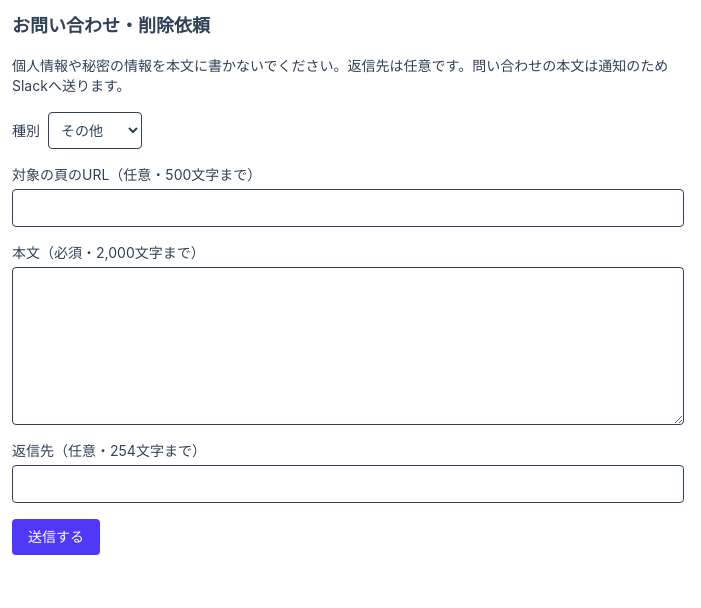
accepts a removal request during maintenance with optional reply address
The image size is (701, 608).
Select "削除依頼" in the dropdown: (95, 130) [48,112,142,149]
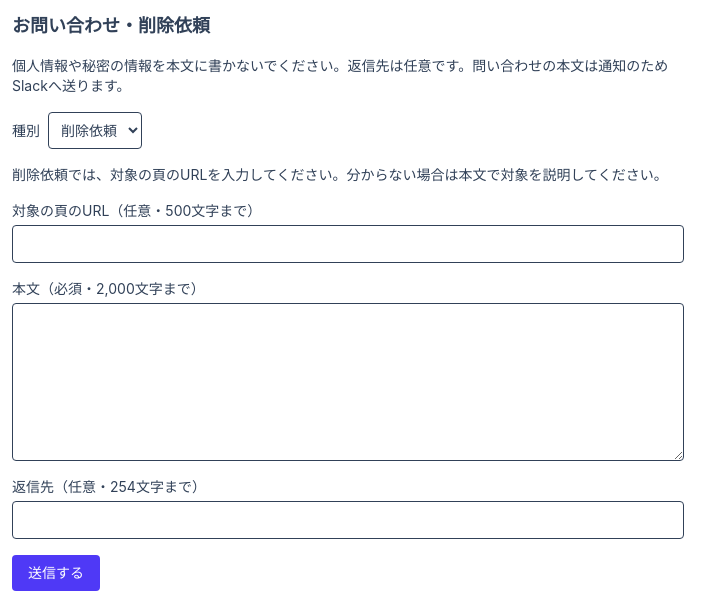
Expected: the text "削除依頼では、対象の頁のURLを入力してください。分からない場合は本文で対象を説明してください。" is shown, [12,165,684,185]
In the field labelled "対象の頁のURL（任意・500文字まで）": (348, 244) [12,225,684,263], type "/theorems/example"
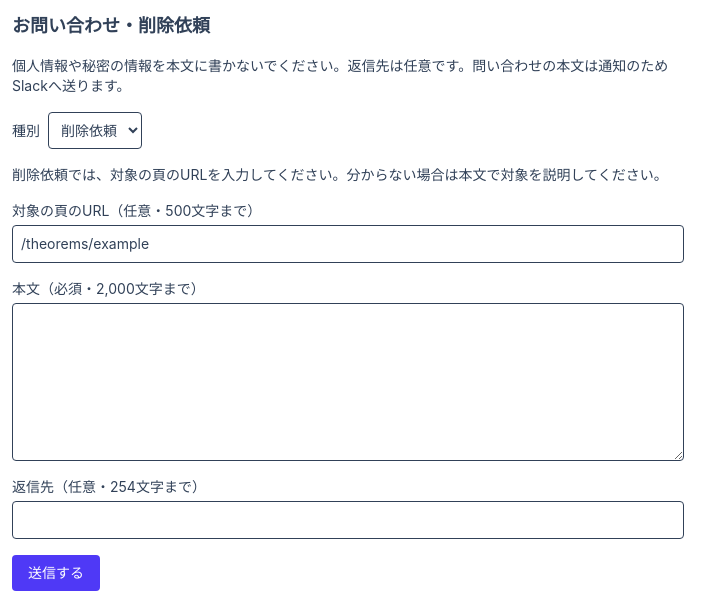
In the text box labelled "本文（必須・2,000文字まで）": (348, 382) [12,303,684,461], type "削除依頼です"
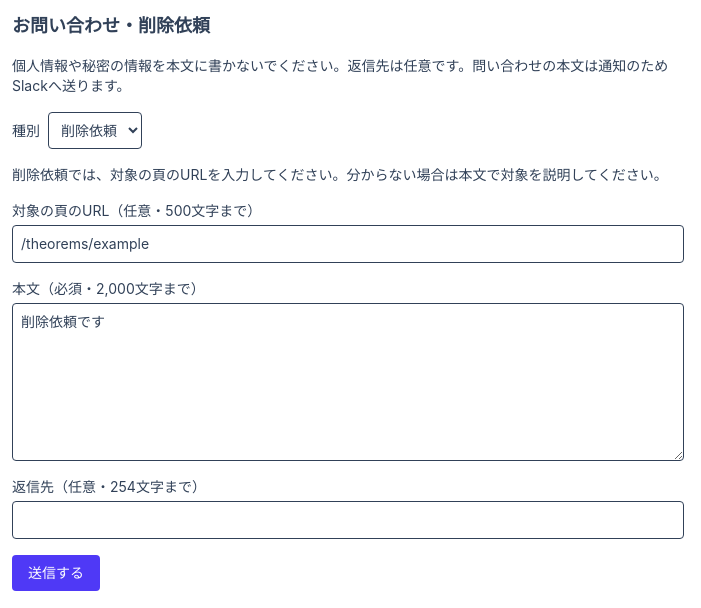
Click the button "送信する": (56, 573) [12,555,100,591]
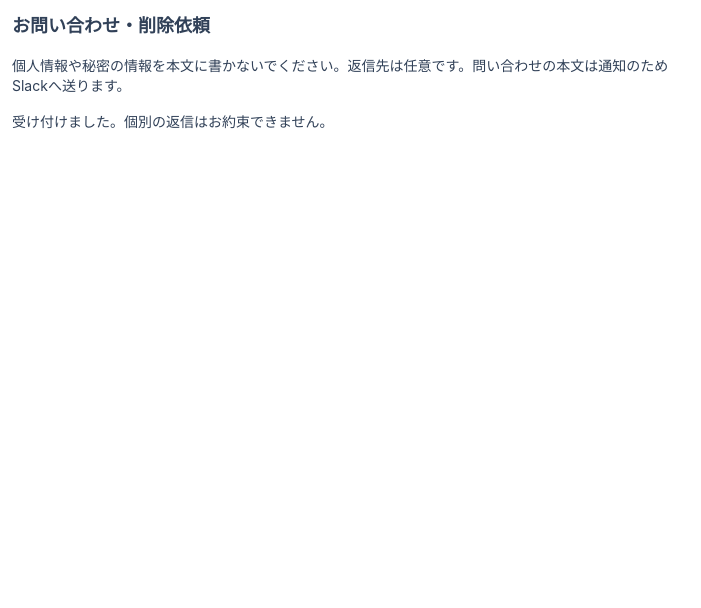
Expected: the message reads "受け付けました。個別の返信はお約束できません。", [12,113,334,130]
